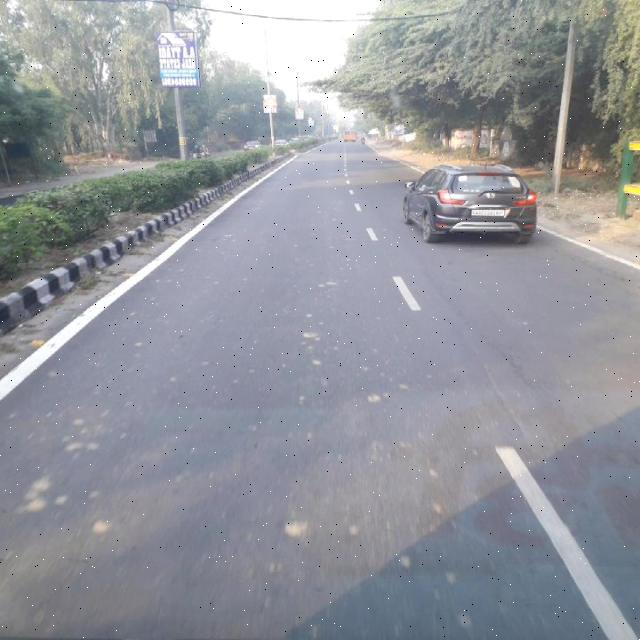D00: (455, 329, 544, 459)
